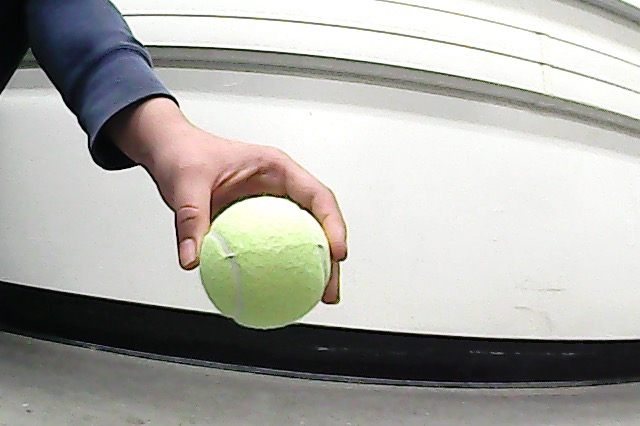ball: (194, 194, 337, 332)
